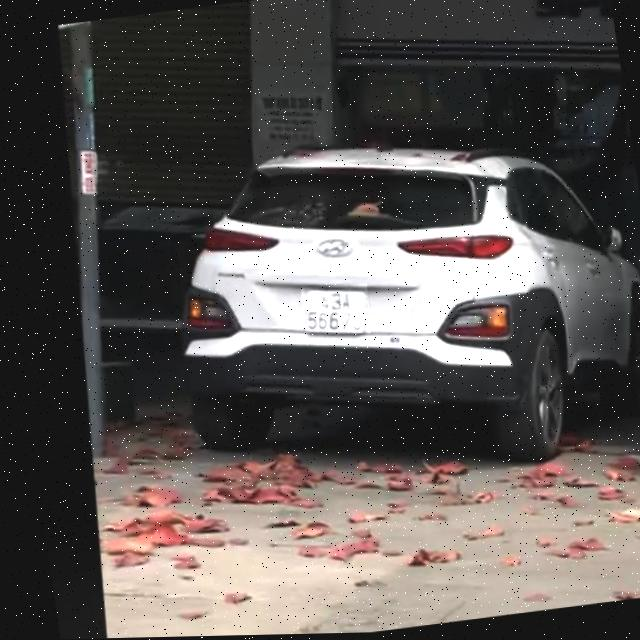car: (111, 80, 640, 493)
plate: (289, 273, 381, 347)
